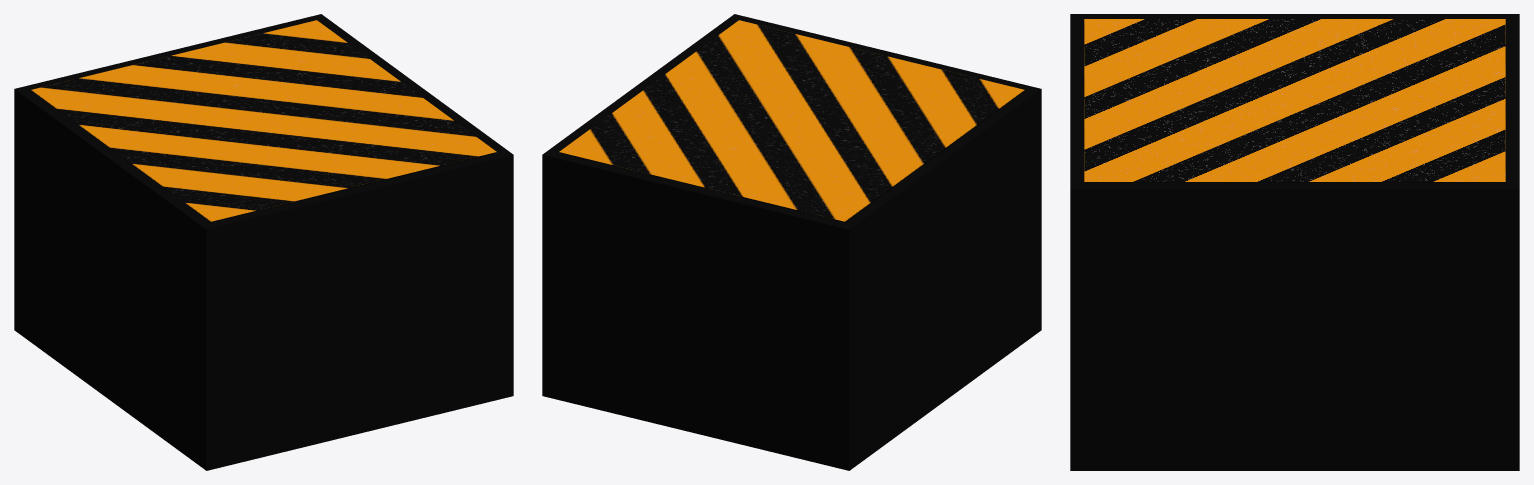
The model's file is Pit.glb.
3 renders of one model, left to right at view 1: azimuth 30°, elevation 25°; view 2: azimuth 150°, elevation 25°; view 3: azimuth 270°, elevation 25°, orthographic. The views are drawn at different scales.
Visible parts, largest first — view 1: Pit, Pit Lid; view 2: Pit, Pit Lid; view 3: Pit, Pit Lid.
Part boxes in pixels (x1,y1,x2,y2): Pit: (14,14,513,470); Pit Lid: (31,20,496,221); Pit: (542,14,1041,470); Pit Lid: (559,20,1024,221); Pit: (1070,14,1519,470); Pit Lid: (1084,19,1505,181).
Bounding box in the file's own units: 3.49 × 2.63 × 3.79.
Materials: 2 (1 with a texture image).
